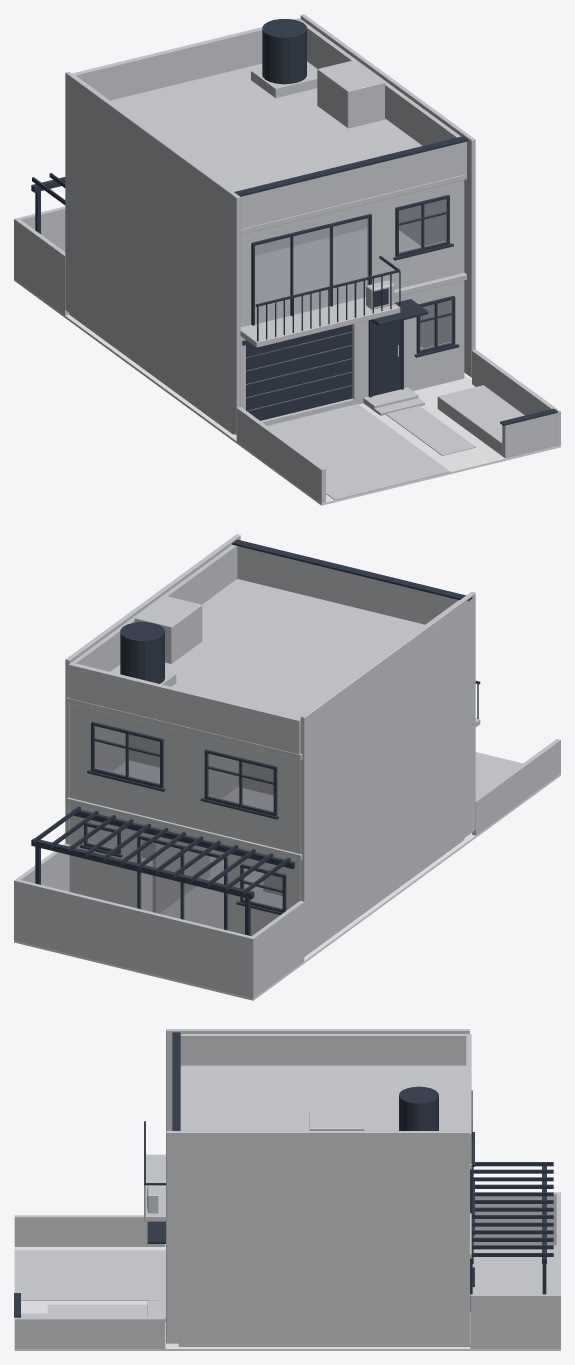
The model's file is santa-sofia-house.glb.
3 renders of one model, top to bottom at view 1: azimuth 30°, elevation 25°; view 2: azimuth 150°, elevation 25°; view 3: azimuth 270°, elevation 25°, orthographic. The views are drawn at different scales.
Parts seen in each view (by area): view 1: Facade_Fin_L, Roof_Slab, Site_Driveway, Upper_MainBed_BalconyDoor_Glass, Upper_Wall_Front, Upper_Slab.001, Roof_Parapet_Front, Roof_Parapet_Back, Site_Lot, Ground_Wall_Front, Facade_Fin_R, Roof_Stair_Hatch (+27 smaller); view 2: Facade_Fin_L, Roof_Slab, Site_BackWall, Upper_Wall_Back, Roof_Parapet_Back, Roof_Parapet_Front, Ground_Wall_Back, Ground_PatioDoor_Glass, Roof_Parapet_R, Site_PerimeterWall_L_Front, Ground_Slab.001, Site_PerimeterWall_L_Back (+17 smaller); view 3: Facade_Fin_R, Roof_Slab, Roof_Parapet_L, Site_Driveway, Site_PerimeterWall_R_Front, Site_PerimeterWall_R_Back, Site_PerimeterWall_L_Front, Site_Patio_Floor, Site_Lot, Site_PerimeterWall_L_Back, Facade_Fin_L, Roof_Tinaco_WaterTank (+15 smaller).
Part boxes in pixels (x1,y1,x2,y2): Facade_Fin_L: (65,71,240,434); Roof_Slab: (110,61,466,234); Site_Driveway: (267,404,450,499); Upper_MainBed_BalconyDoor_Glass: (255,218,368,324); Upper_Wall_Front: (240,180,464,326); Upper_Slab.001: (240,228,466,329); Roof_Parapet_Front: (240,141,466,228); Roof_Parapet_Back: (72,18,301,100); Site_Lot: (14,278,560,505); Ground_Wall_Front: (240,280,464,410); Facade_Fin_R: (300,14,475,377); Roof_Stair_Hatch: (317,60,384,128); Facade_Fin_L: (300,591,475,954); Roof_Slab: (67,579,424,760); Site_BackWall: (14,879,255,998); Upper_Wall_Back: (69,704,300,853); Roof_Parapet_Back: (68,663,300,754); Roof_Parapet_Front: (237,546,458,624); Ground_Wall_Back: (69,804,300,936); Ground_PatioDoor_Glass: (140,839,223,929); Roof_Parapet_R: (70,545,237,671); Site_PerimeterWall_L_Front: (472,739,560,835); Ground_Slab.001: (142,838,464,956); Site_PerimeterWall_L_Back: (252,900,304,996); Facade_Fin_R: (166,1131,469,1343); Roof_Slab: (180,1065,471,1169); Roof_Parapet_L: (180,1034,469,1065); Site_Driveway: (14,1250,165,1300); Site_PerimeterWall_R_Front: (14,1317,165,1348); Site_PerimeterWall_R_Back: (470,1294,556,1348); Site_PerimeterWall_L_Front: (14,1215,165,1246); Site_Patio_Floor: (470,1245,556,1346); Site_Lot: (14,1245,560,1350); Site_PerimeterWall_L_Back: (473,1192,556,1245); Facade_Fin_L: (166,1029,469,1130); Roof_Tinaco_WaterTank: (399,1086,438,1130).
Size of the model in its own units: 6.74 by 7.11 by 15.02.
